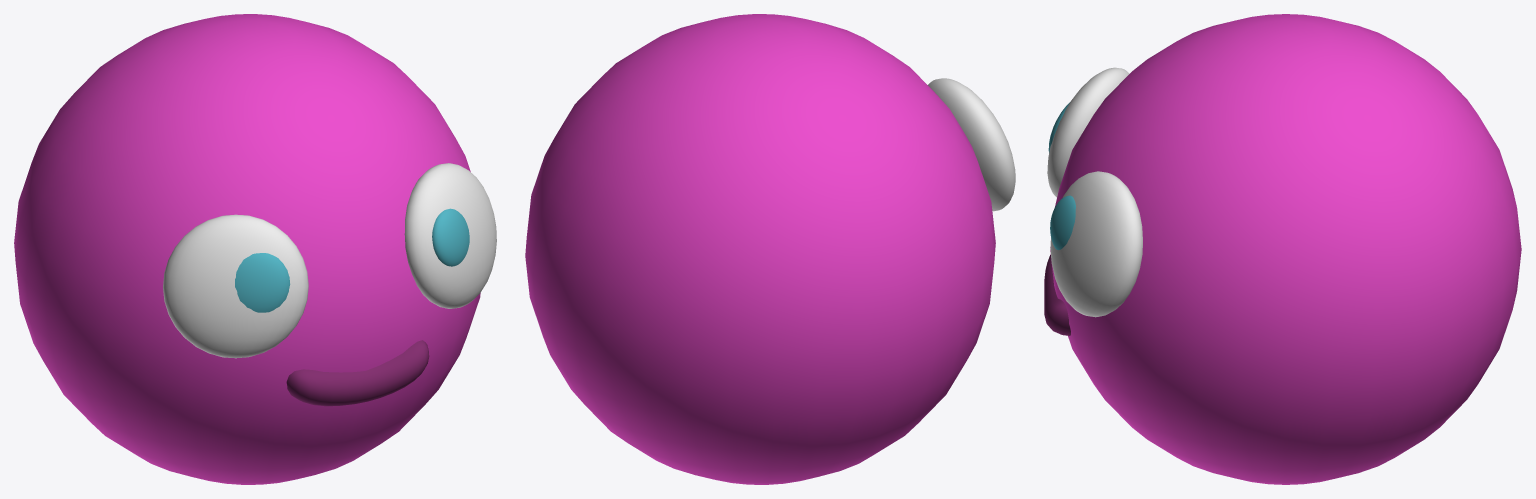
File: plinko.glb
3 renders of one model, left to right at view 1: azimuth 30°, elevation 25°; view 2: azimuth 150°, elevation 25°; view 3: azimuth 270°, elevation 25°, orthographic.
Visible parts, largest first — view 1: Sphere; view 2: Sphere; view 3: Sphere.
Boxes of the visible parts, bbox=[...] form: Sphere: bbox=[14, 14, 496, 484]; Sphere: bbox=[525, 14, 1015, 484]; Sphere: bbox=[1044, 14, 1521, 484].
Bounding box in the file's own units: 0.8 × 0.8 × 0.8099.
